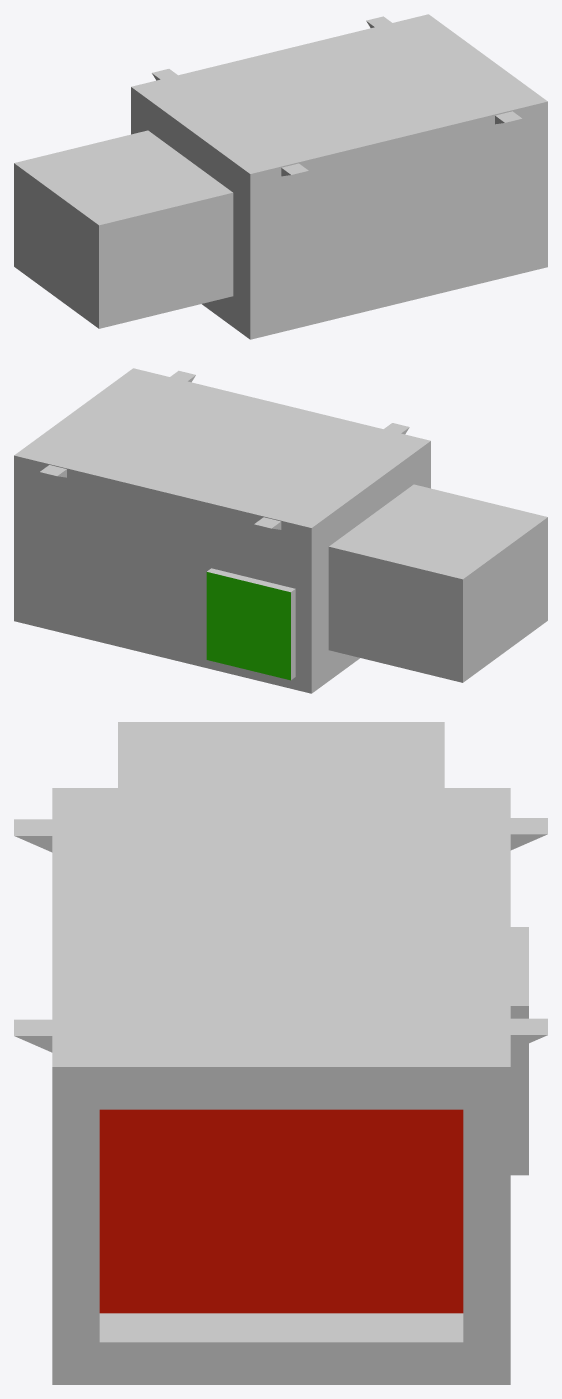
Rendered from vent.fbx.
The picture shows the model from 3 angles, top to bottom: view 1: azimuth 30°, elevation 25°; view 2: azimuth 150°, elevation 25°; view 3: azimuth 270°, elevation 25°; orthographic projection. The views are drawn at different scales.
Visible parts, largest first — view 1: Cube; view 2: Cube; view 3: Cube.
Boxes of the visible parts, left/top/right/bottom form: Cube: left=14, top=14, right=547, bottom=339; Cube: left=14, top=368, right=547, bottom=693; Cube: left=14, top=722, right=547, bottom=1384.
Bounding box in the file's own units: 0.9426 × 0.3456 × 0.5259.
